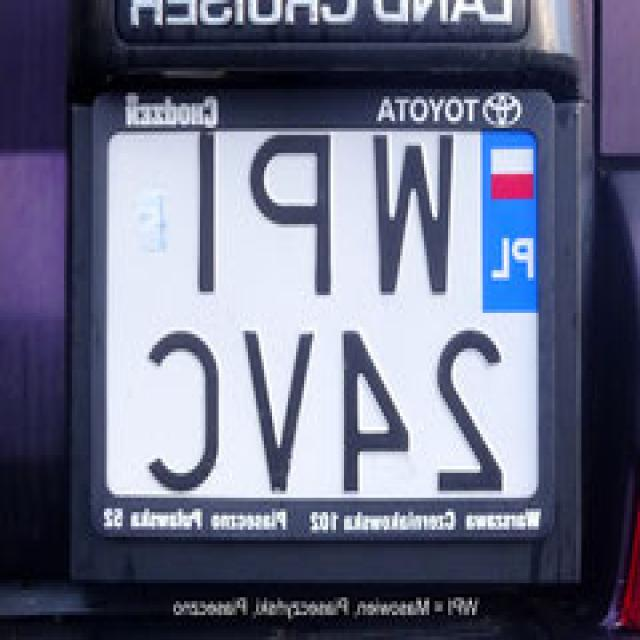pl_license_plate: (109, 128, 542, 498)
